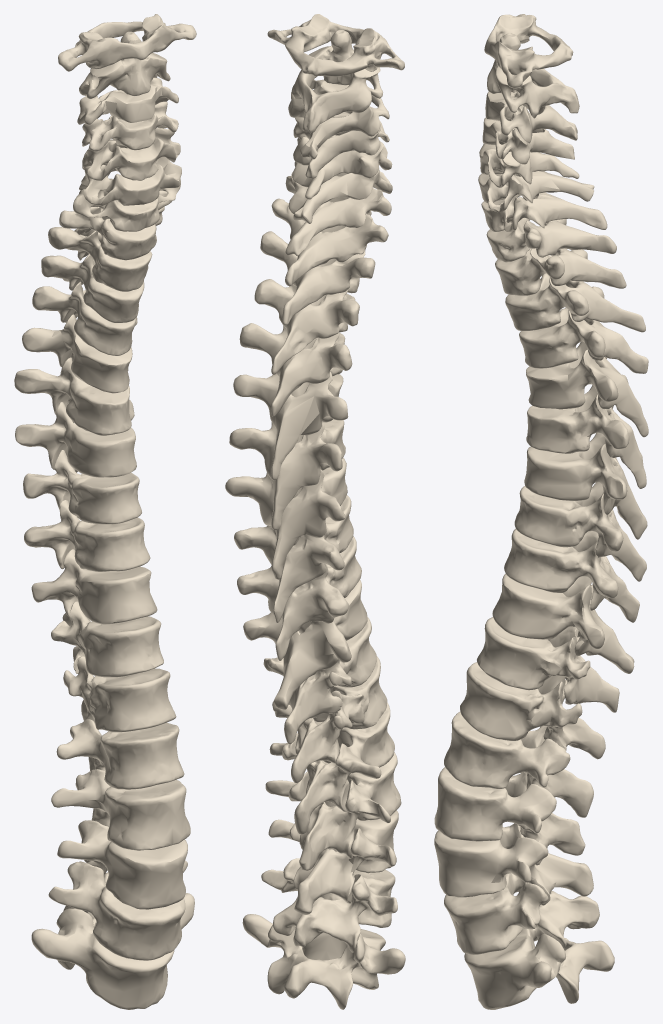
The model's file is skeletal.back.glb.
3 views of the same model, side by side, from view 1: azimuth 30°, elevation 25°; view 2: azimuth 150°, elevation 25°; view 3: azimuth 270°, elevation 25° (orthographic).
Visible parts, largest first — view 1: fifth_lumbar_vertebra, second_lumbar_vertebra, fourth_lumbar_vertebra, third_lumbar_vertebra, first_lumbar_vertebra, twelfth_thoracic_vertebra, tenth_thoracic_vertebra, eleventh_thoracic_vertebra, ninth_thoracic_vertebra, seventh_thoracic_vertebra, eighth_thoracic_vertebra, sixth_thoracic_vertebra (+12 smaller); view 2: fifth_lumbar_vertebra, fourth_lumbar_vertebra, second_lumbar_vertebra, third_lumbar_vertebra, first_lumbar_vertebra, tenth_thoracic_vertebra, seventh_thoracic_vertebra, ninth_thoracic_vertebra, sixth_thoracic_vertebra, fifth_thoracic_vertebra, twelfth_thoracic_vertebra, eighth_thoracic_vertebra (+12 smaller); view 3: second_lumbar_vertebra, third_lumbar_vertebra, first_lumbar_vertebra, fourth_lumbar_vertebra, fifth_lumbar_vertebra, twelfth_thoracic_vertebra, eleventh_thoracic_vertebra, tenth_thoracic_vertebra, ninth_thoracic_vertebra, seventh_thoracic_vertebra, eighth_thoracic_vertebra, sixth_thoracic_vertebra (+12 smaller).
Boxes of the visible parts, box(x1,y1,x2,y2) form: fifth_lumbar_vertebra: box(31, 893, 194, 1009); second_lumbar_vertebra: box(51, 769, 190, 850); fourth_lumbar_vertebra: box(48, 860, 187, 960); third_lumbar_vertebra: box(57, 820, 187, 909); first_lumbar_vertebra: box(56, 719, 184, 789); twelfth_thoracic_vertebra: box(63, 656, 176, 732); tenth_thoracic_vertebra: box(31, 549, 157, 626); eleventh_thoracic_vertebra: box(51, 601, 163, 677); ninth_thoracic_vertebra: box(24, 500, 150, 571); seventh_thoracic_vertebra: box(15, 400, 136, 477); eighth_thoracic_vertebra: box(23, 450, 141, 524); sixth_thoracic_vertebra: box(14, 357, 131, 435); fifth_lumbar_vertebra: box(242, 914, 405, 1009); fourth_lumbar_vertebra: box(261, 858, 397, 952); second_lumbar_vertebra: box(265, 752, 401, 870); third_lumbar_vertebra: box(268, 810, 398, 914); first_lumbar_vertebra: box(269, 702, 394, 834); tenth_thoracic_vertebra: box(243, 580, 367, 709); seventh_thoracic_vertebra: box(225, 457, 347, 579); ninth_thoracic_vertebra: box(237, 536, 361, 660); sixth_thoracic_vertebra: box(229, 419, 345, 530); fifth_thoracic_vertebra: box(233, 372, 348, 480); twelfth_thoracic_vertebra: box(272, 656, 387, 783); eighth_thoracic_vertebra: box(234, 495, 353, 622); second_lumbar_vertebra: box(434, 767, 585, 865); third_lumbar_vertebra: box(434, 823, 593, 905); first_lumbar_vertebra: box(444, 712, 593, 817); fourth_lumbar_vertebra: box(444, 873, 599, 954); fifth_lumbar_vertebra: box(464, 924, 614, 1009); twelfth_thoracic_vertebra: box(460, 662, 605, 759); eleventh_thoracic_vertebra: box(477, 617, 619, 712); tenth_thoracic_vertebra: box(492, 573, 634, 673); ninth_thoracic_vertebra: box(504, 528, 639, 622); seventh_thoracic_vertebra: box(524, 433, 647, 539); eighth_thoracic_vertebra: box(514, 482, 646, 581); sixth_thoracic_vertebra: box(526, 374, 646, 488).
Size of the model in its own units: 0.1006 by 0.5778 by 0.1154.
